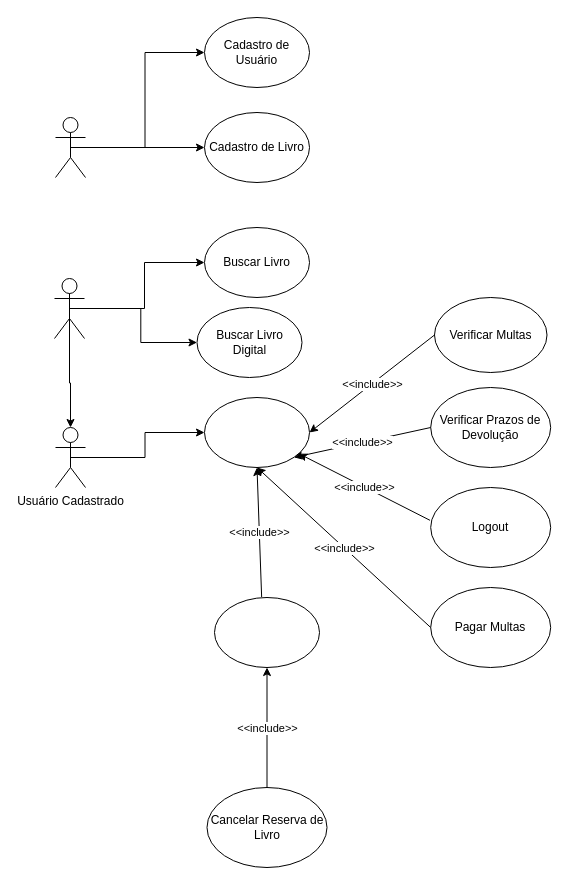
Some shapes in this 569 by 885 pixel diagram are drawn without their labels. The shapes that lost their labels are listed below. From the top down, each one's centre as x and y in pixels, then its label:
the point at 70,147: Administrador
the point at 69,308: Usuário
the point at 257,432: Login
the point at 267,632: Solicitação de Reserva de Livro
